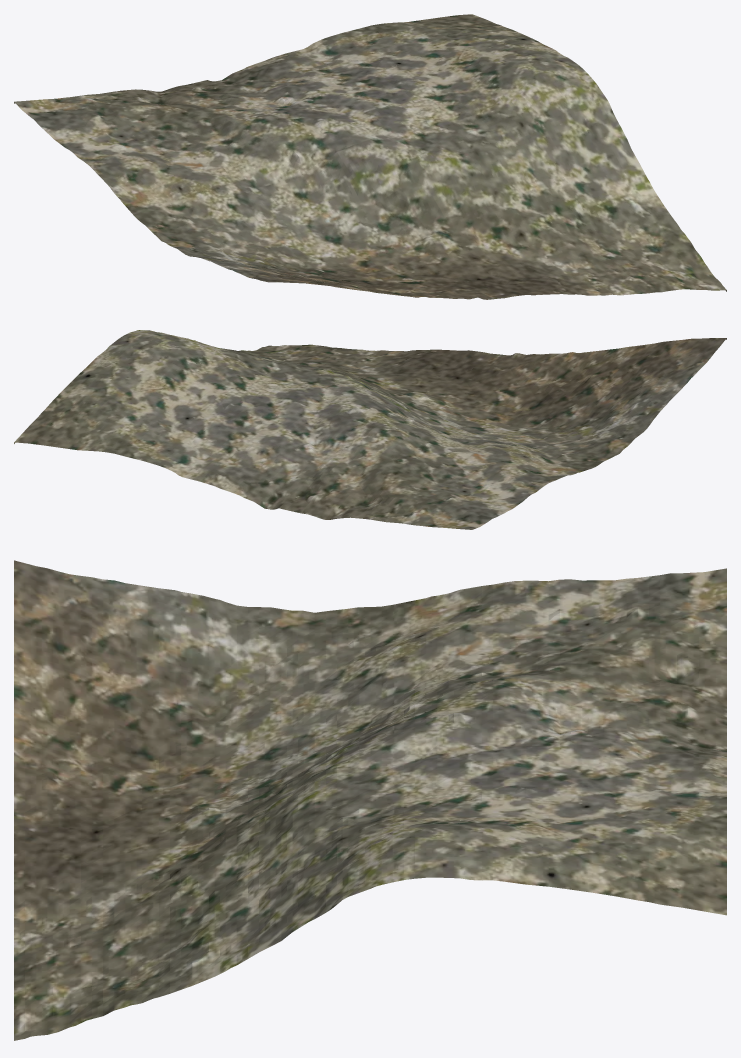
The picture shows the model from 3 angles, top to bottom: view 1: azimuth 30°, elevation 25°; view 2: azimuth 150°, elevation 25°; view 3: azimuth 270°, elevation 25°; orthographic projection. The views are drawn at different scales.
Bounding box in the file's own units: 250 × 65.34 × 241.
1 material, 1 textured.
